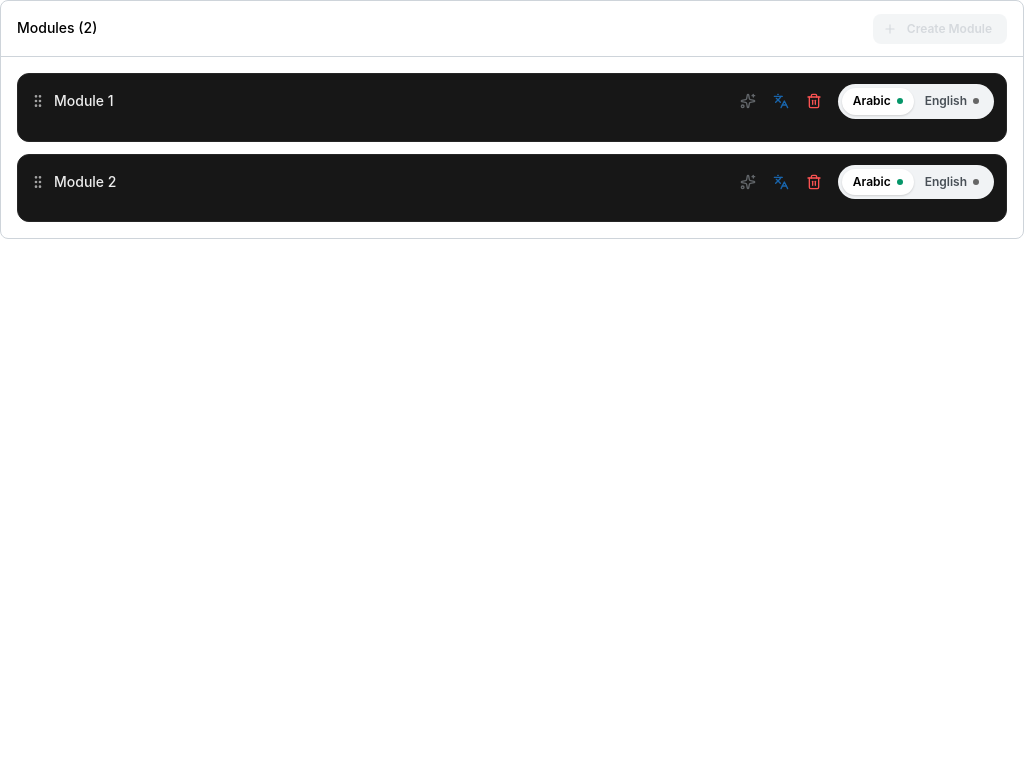
Test: SourceModulesPanel › uses getDeleteConfirmDescription(key) for the confirmation copy
This screenshot has width=1024, height=768.
Click the button named "Delete Module 1" at (814, 101), box [800,87,828,115]
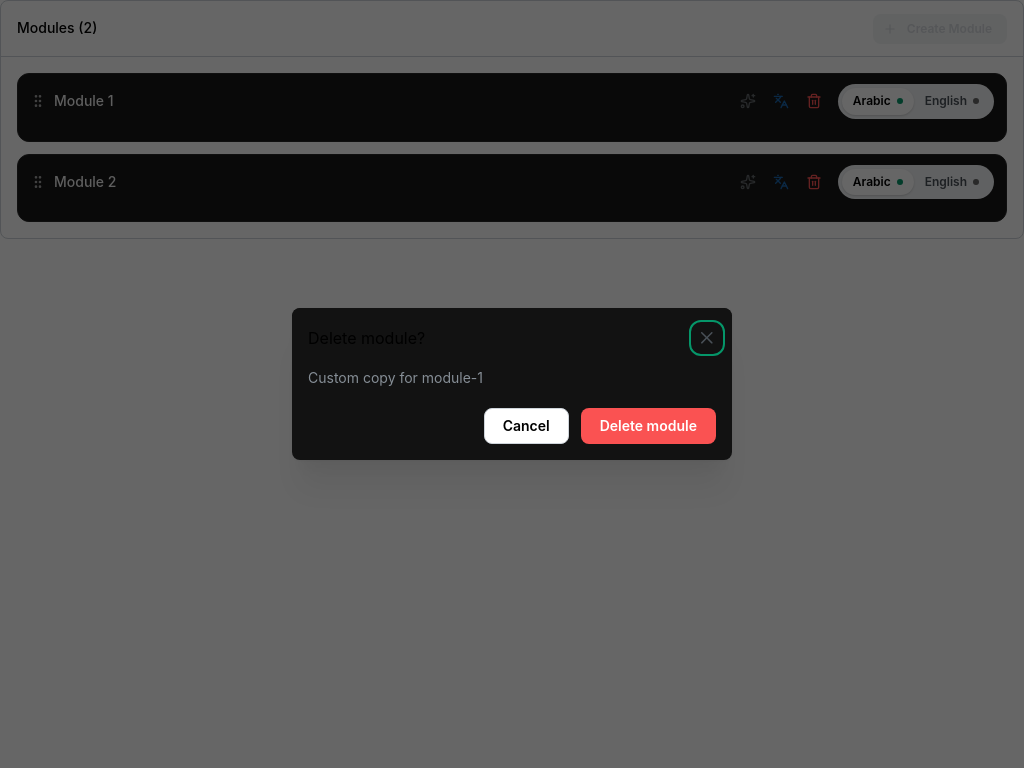
expect the text "Custom copy for module-1" is shown: met, box [308,369,483,386]
